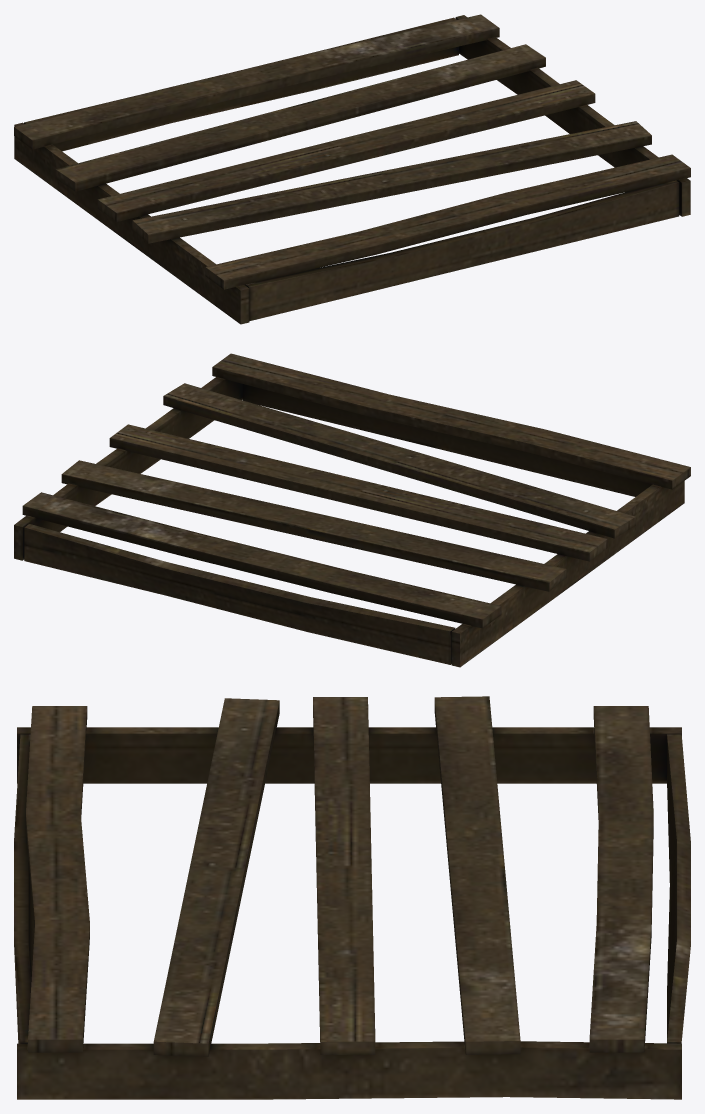
The model's file is CrateBaseSet_01.FBX.
3 renders of one model, top to bottom at view 1: azimuth 30°, elevation 25°; view 2: azimuth 150°, elevation 25°; view 3: azimuth 270°, elevation 25°, orthographic. The views are drawn at different scales.
Parts seen in each view (by area): view 1: CrateBaseSet_01; view 2: CrateBaseSet_01; view 3: CrateBaseSet_01.
Boxes of the visible parts, x1,y1,x2,y2 form: CrateBaseSet_01: (14,14,690,324); CrateBaseSet_01: (14,353,690,667); CrateBaseSet_01: (14,696,690,1099).
Size of the model in its own units: 131 by 11.51 by 108.
